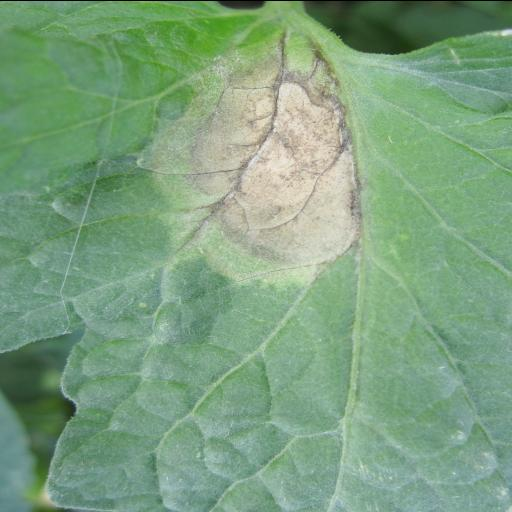Late Blight: (8, 4, 496, 508)
